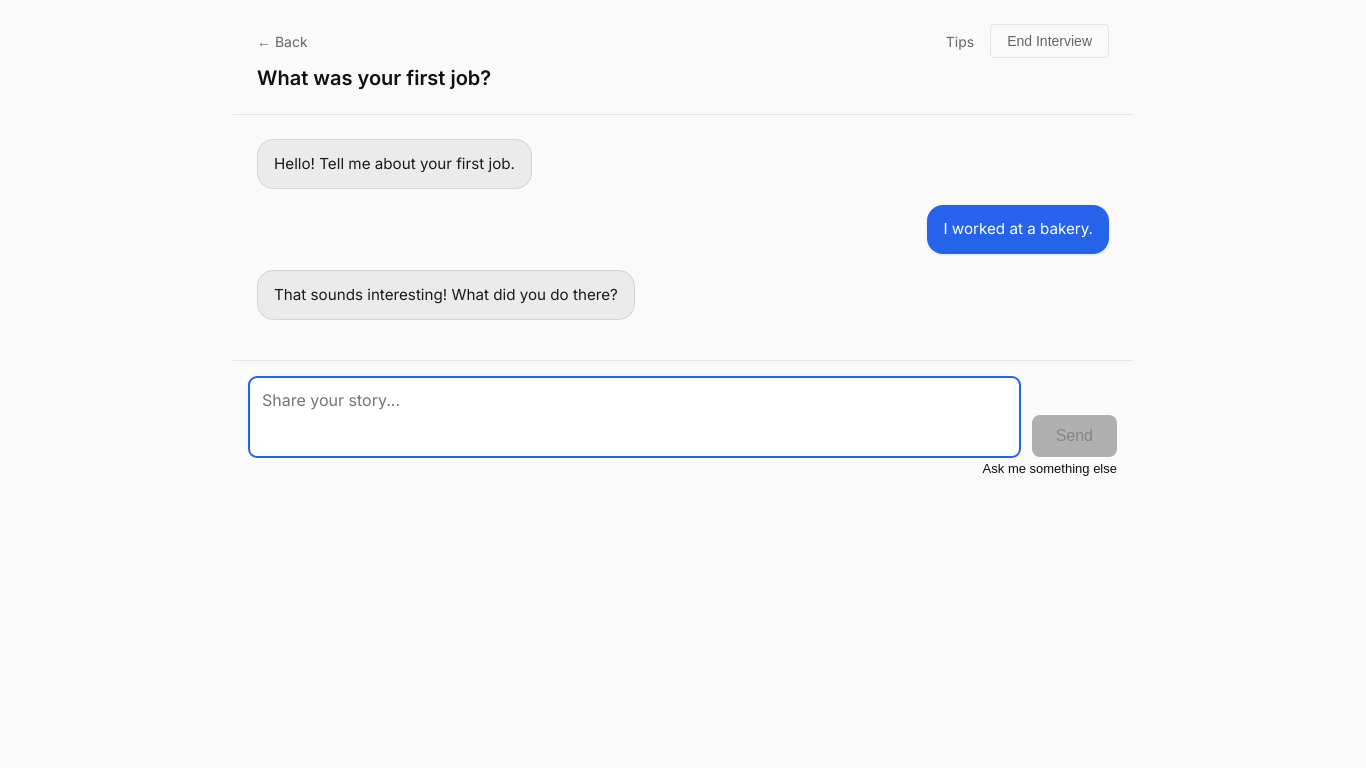
InterviewSession › Redirect button › shows error on redirect failure
Click the button "Ask me something else" at {"x": 1050, "y": 468}, box [983,457,1117,480]
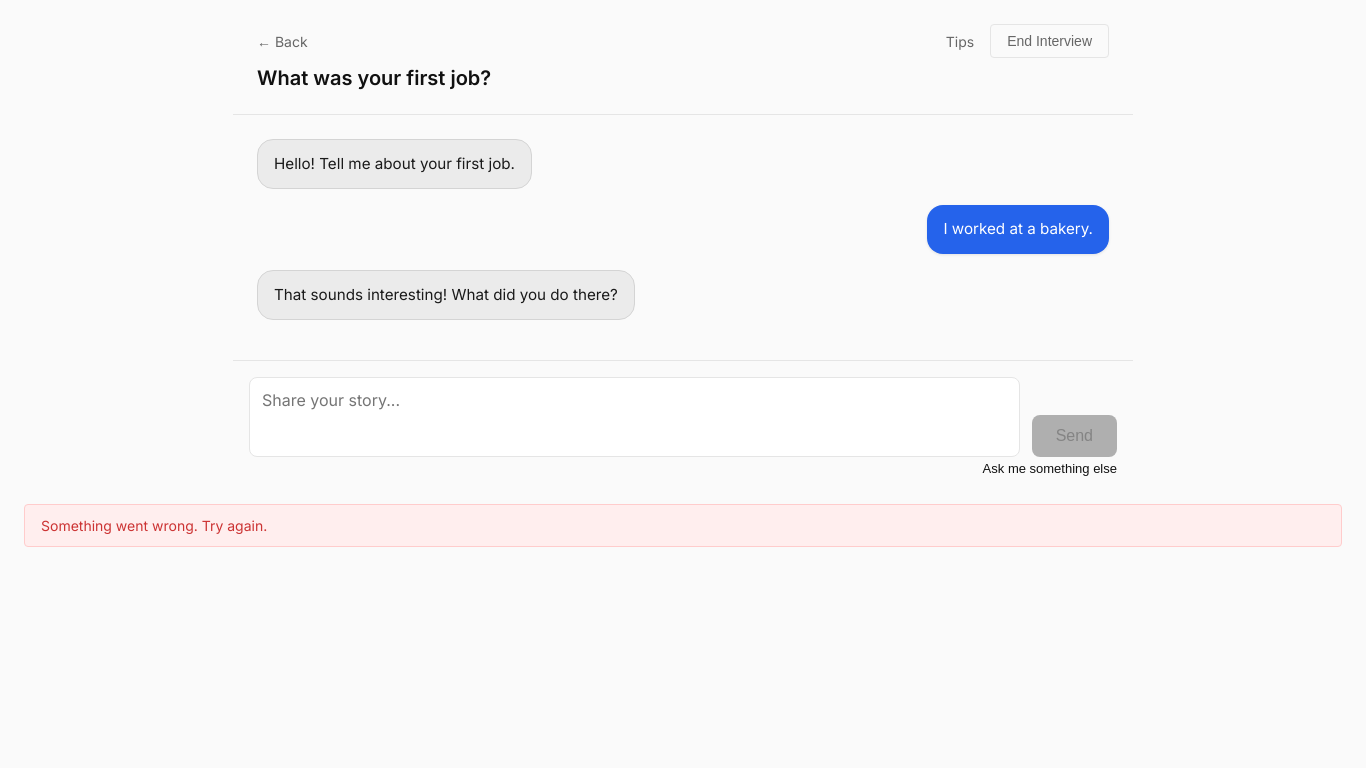
Now the text "Something went wrong. Try again." is shown, box [24,504,1342,547]
